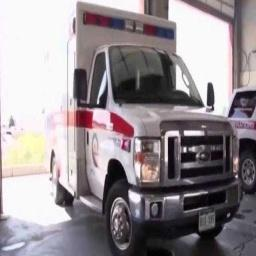ambulance: (47, 2, 241, 255), (227, 86, 255, 192)
